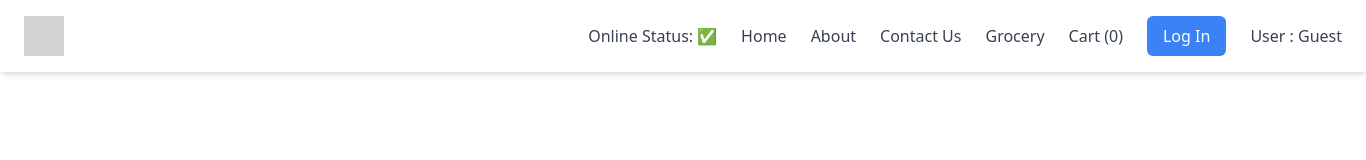
Should change login to logout
Step 1. Click the button "Log In" → (1187, 36), box [1147,16,1226,56]
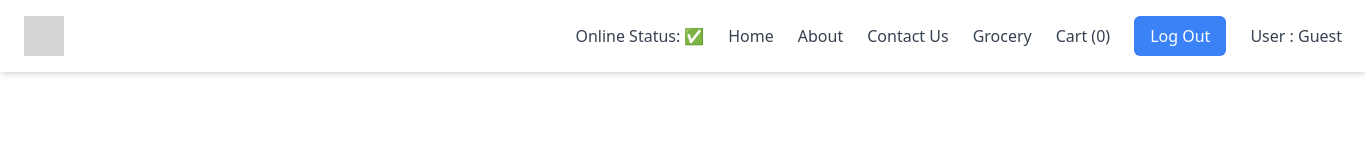
Now the button "Log Out" is shown, box [1134,16,1226,56]
